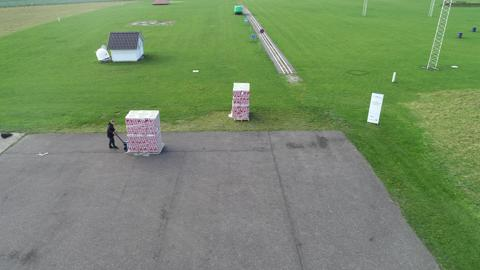RockwoolPallet: (125, 110, 163, 153)
